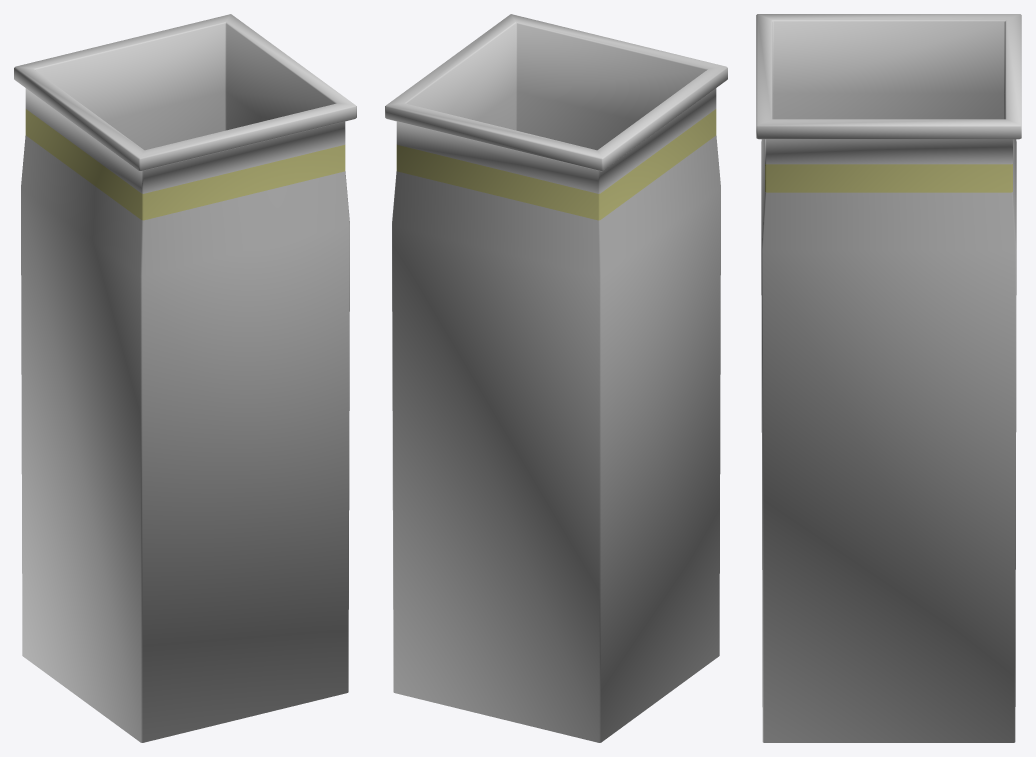
Rendered from bin01.fbx.
3 views of the same model, side by side, from view 1: azimuth 30°, elevation 25°; view 2: azimuth 150°, elevation 25°; view 3: azimuth 270°, elevation 25° (orthographic). The views are drawn at different scales.
Visible parts, largest first — view 1: Cube; view 2: Cube; view 3: Cube.
Part boxes in pixels (<box>): Cube: <box>14,14,356,742</box>; Cube: <box>385,14,727,742</box>; Cube: <box>756,14,1021,742</box>.
Bounding box in the file's own units: 214 × 552 × 214.
